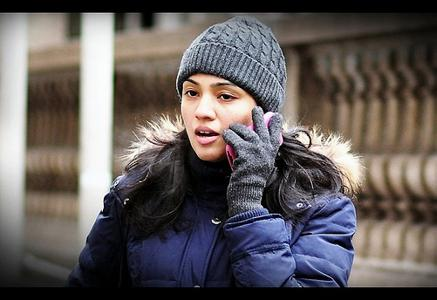person: (72, 17, 357, 293)
